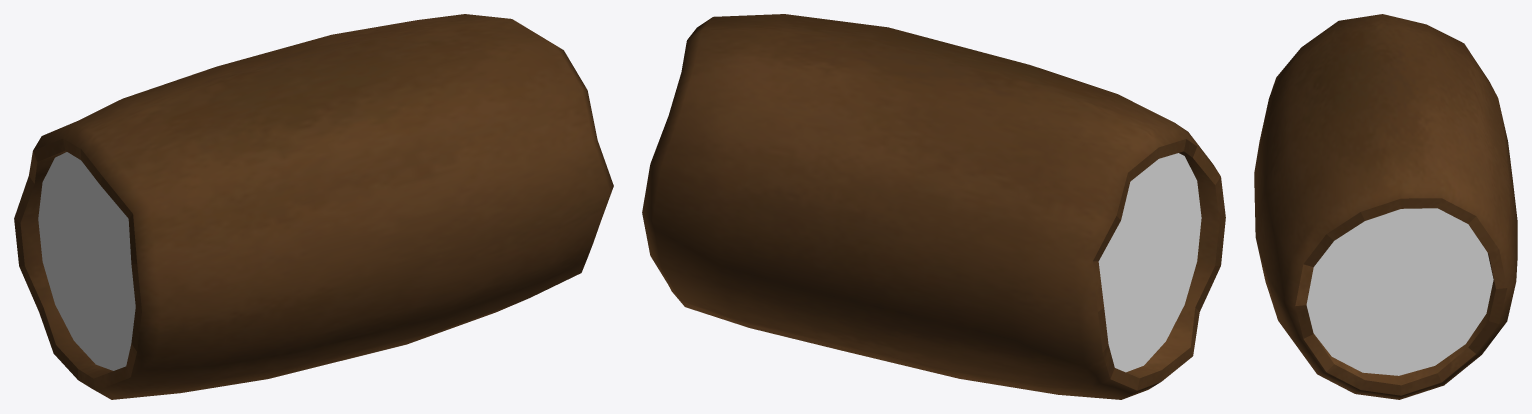
Rendered from Log_1.glb.
3 views of the same model, side by side, from view 1: azimuth 30°, elevation 25°; view 2: azimuth 150°, elevation 25°; view 3: azimuth 270°, elevation 25° (orthographic). The views are drawn at different scales.
Parts seen in each view (by area): view 1: Cylinder.074; view 2: Cylinder.074; view 3: Cylinder.074.
Boxes of the visible parts, x1,y1,x2,y2 form: Cylinder.074: [14, 14, 613, 399]; Cylinder.074: [642, 14, 1225, 399]; Cylinder.074: [1254, 14, 1517, 399].
Bounding box in the file's own units: 0.8688 × 0.4955 × 0.4917.
Materials: 2 (1 with a texture image).
